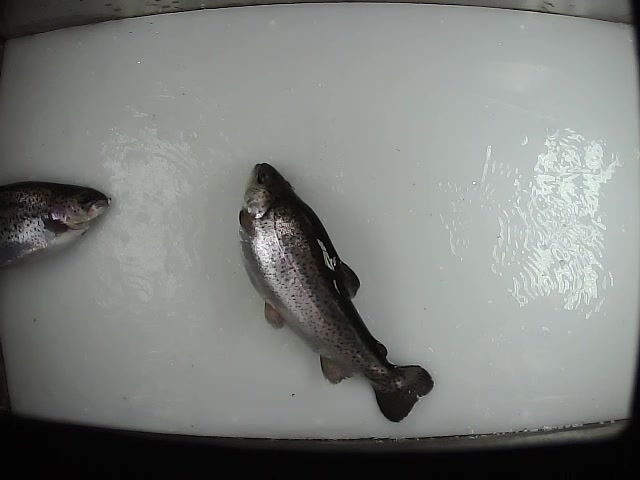fish: (235, 159, 435, 425), (1, 170, 111, 272)
